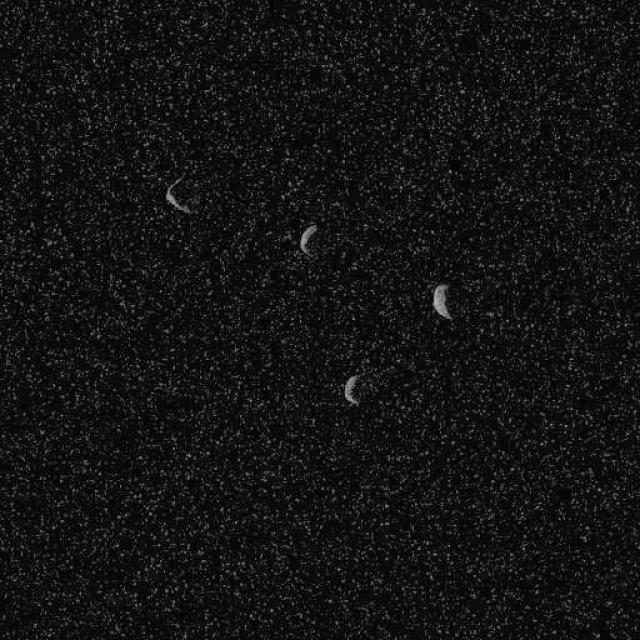D2: (164, 173, 194, 215), (430, 282, 452, 320), (299, 222, 319, 258), (342, 374, 360, 406)
